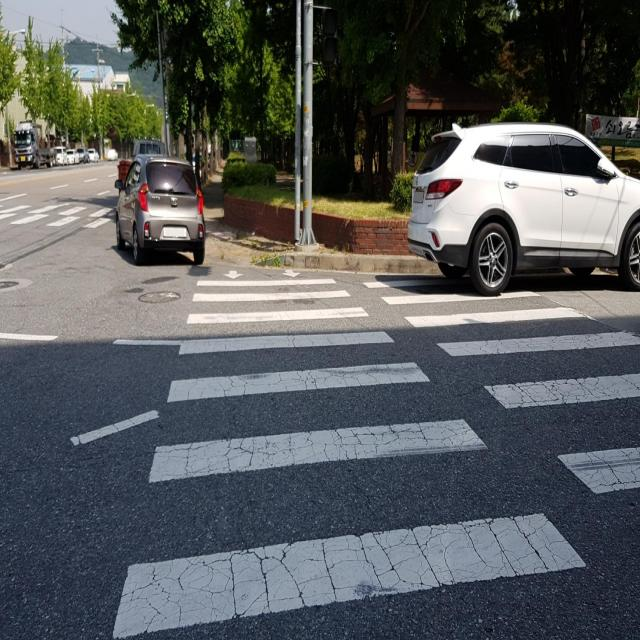횡단보도: (110, 267, 640, 639), (0, 201, 113, 230)
